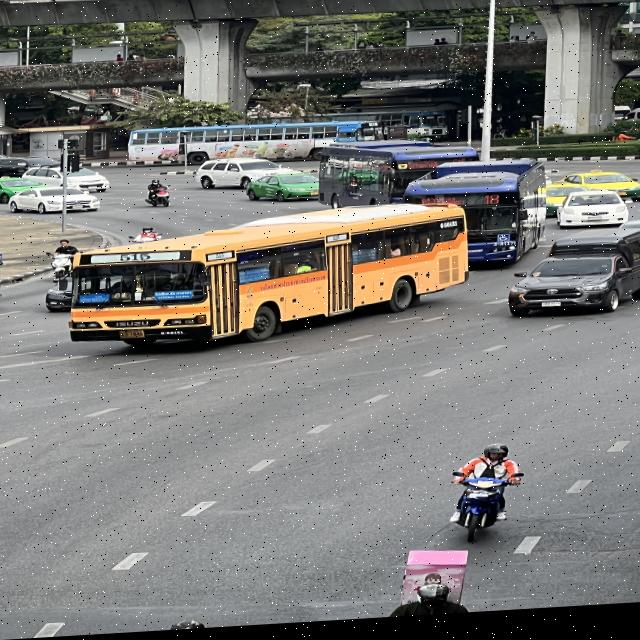BMTA-bus: (62, 208, 470, 353)
Bus Line Number: (114, 252, 157, 264), (481, 199, 504, 212)
Bus Side Number: (154, 332, 188, 339), (488, 247, 518, 254)
Destination Sign: (419, 199, 467, 212), (154, 291, 193, 303)
TSB-Bus: (404, 166, 546, 273), (315, 148, 479, 209)
